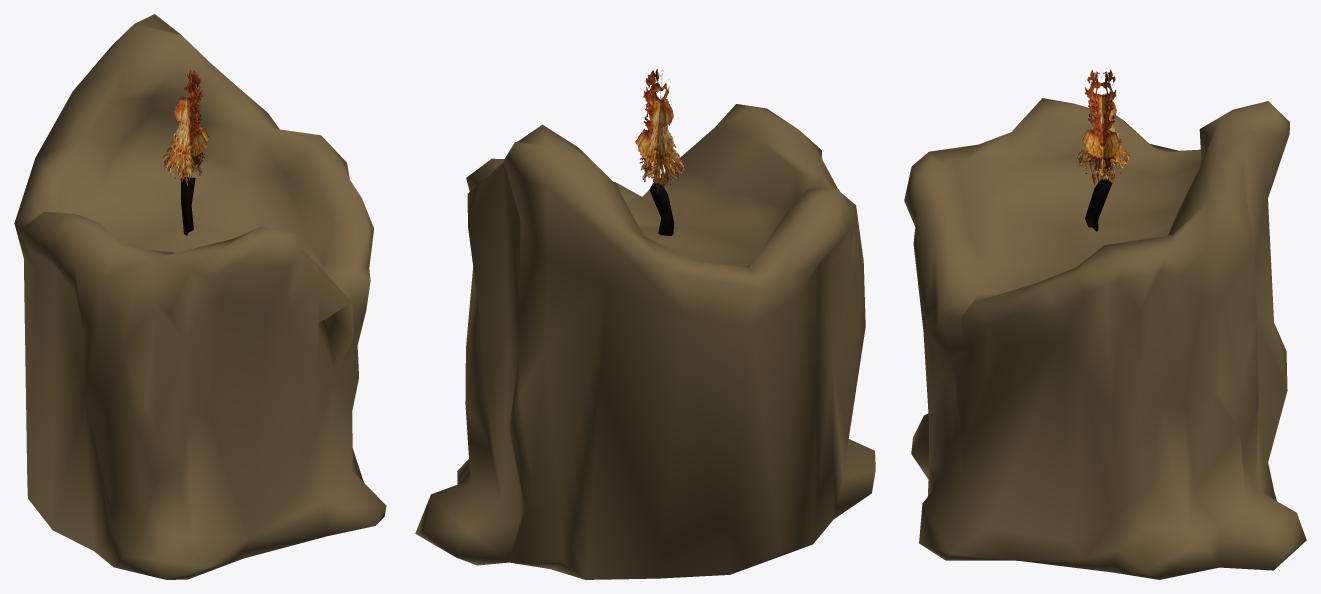
Rendered from Candle_1.fbx.
3 views of the same model, side by side, from view 1: azimuth 30°, elevation 25°; view 2: azimuth 150°, elevation 25°; view 3: azimuth 270°, elevation 25° (orthographic). The views are drawn at different scales.
Parts seen in each view (by area): view 1: Candle 1; view 2: Candle 1; view 3: Candle 1.
Part boxes in pixels (left/top/right/bottom): Candle 1: left=14, top=14, right=386, bottom=579; Candle 1: left=415, top=69, right=875, bottom=579; Candle 1: left=904, top=69, right=1306, bottom=579.
Bounding box in the file's own units: 32.21 × 42.8 × 33.06.
